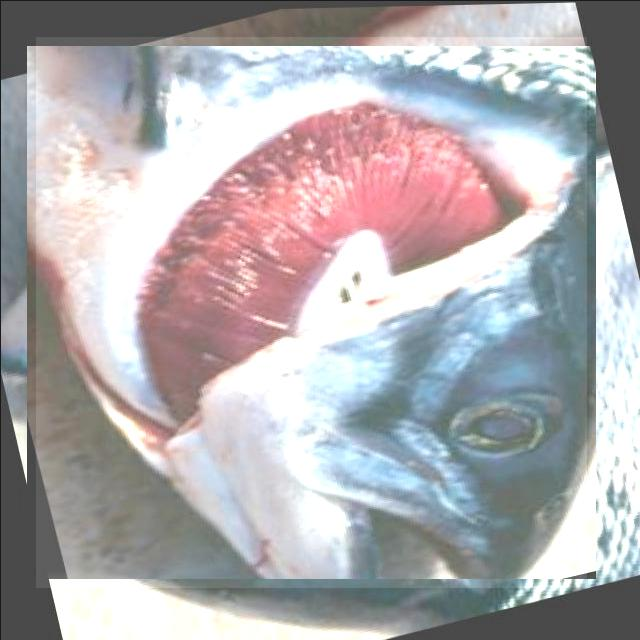Gill Disease: (35, 36, 586, 587)
